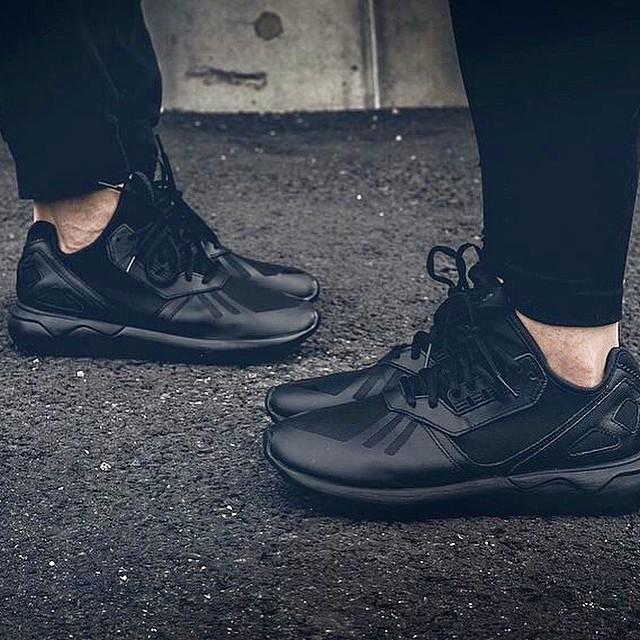sneaker: (241, 267, 640, 527), (1, 152, 332, 373), (252, 236, 515, 443), (136, 132, 324, 311)
